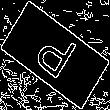P_SW: (29, 24, 81, 86)
